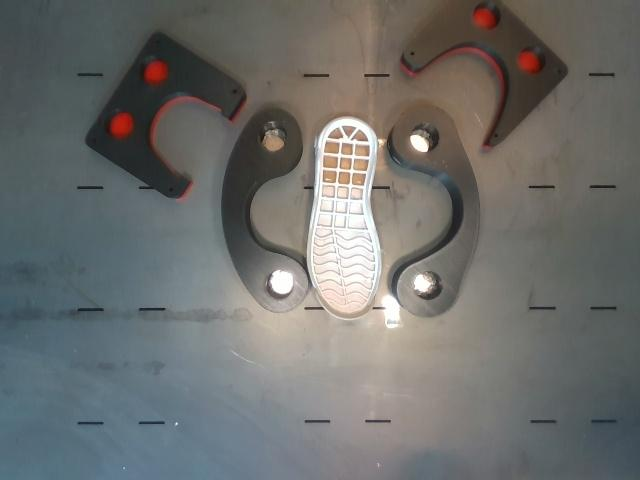shoes: (309, 119, 379, 321)
